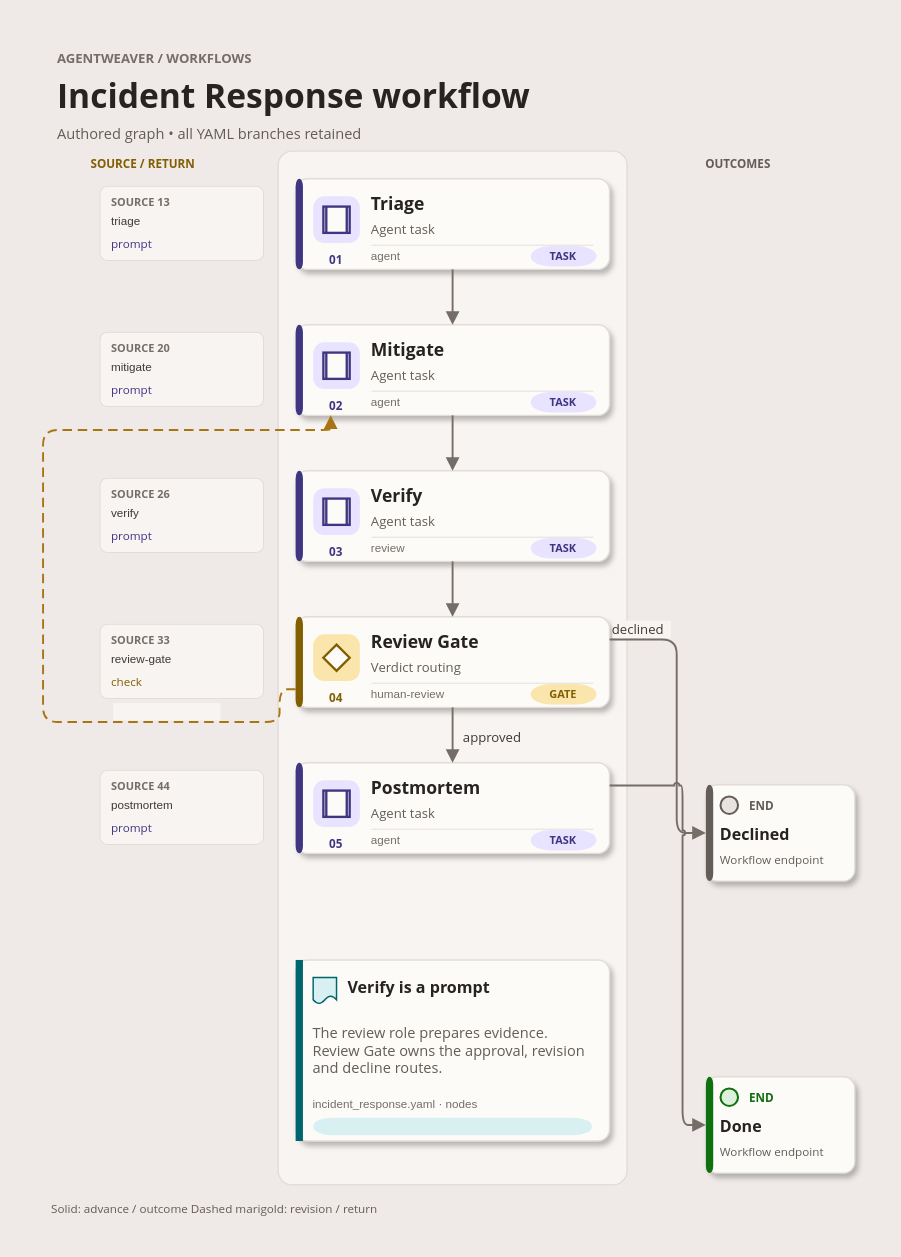
This 901x1257 diagram has some shape labels left out. The centre of each missing label's shape, as x and y in pixels:
PROMPT ≠ DECISION: the point at 451,1125
request-changes: the point at 166,711
